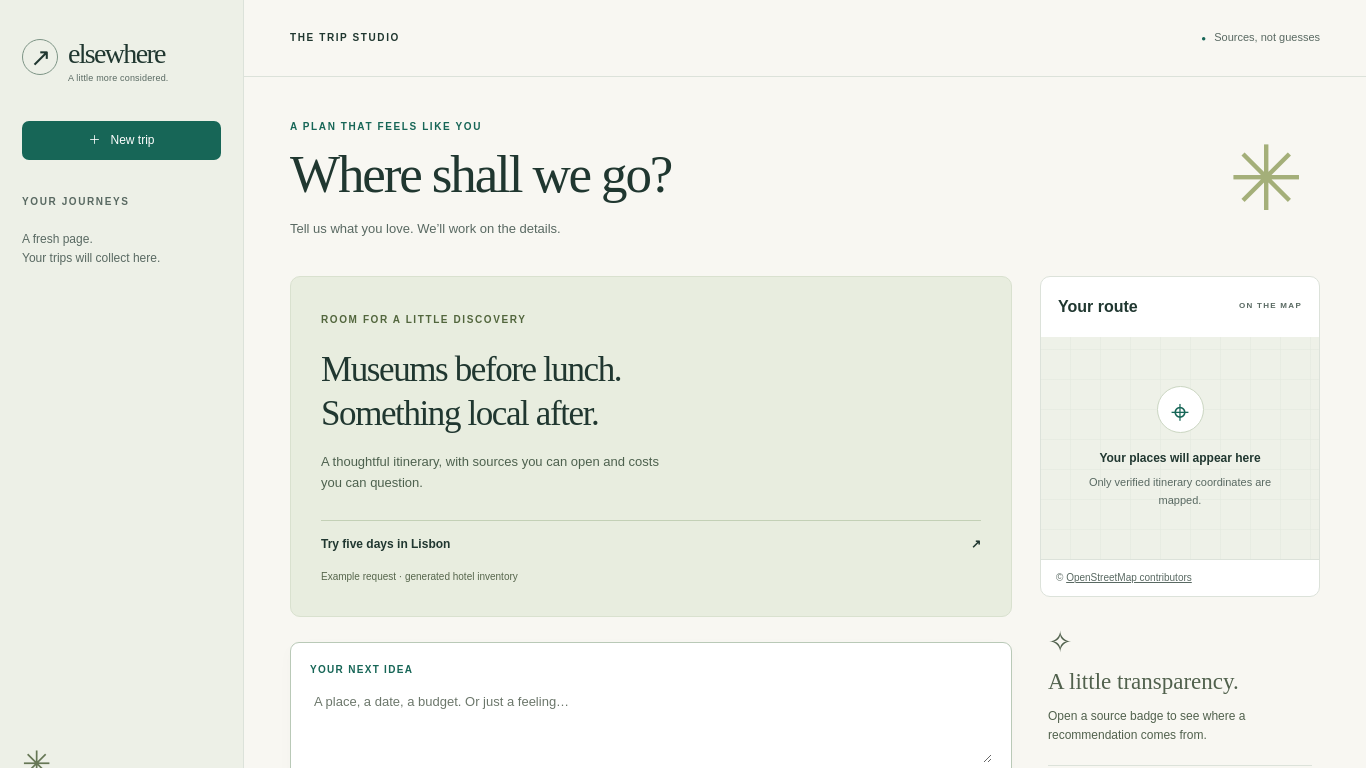
Test case: shows server errors, retries the message and restores persisted trip history
The width and height of the screenshot is (1366, 768).
Later steps or results of the test are not shown.
Type "Plan a synthetic trip" into the text box labelled "Your next idea".
click(651, 726); type("Plan a synthetic trip")  # box [310,688,992,763]
(page scrolled)
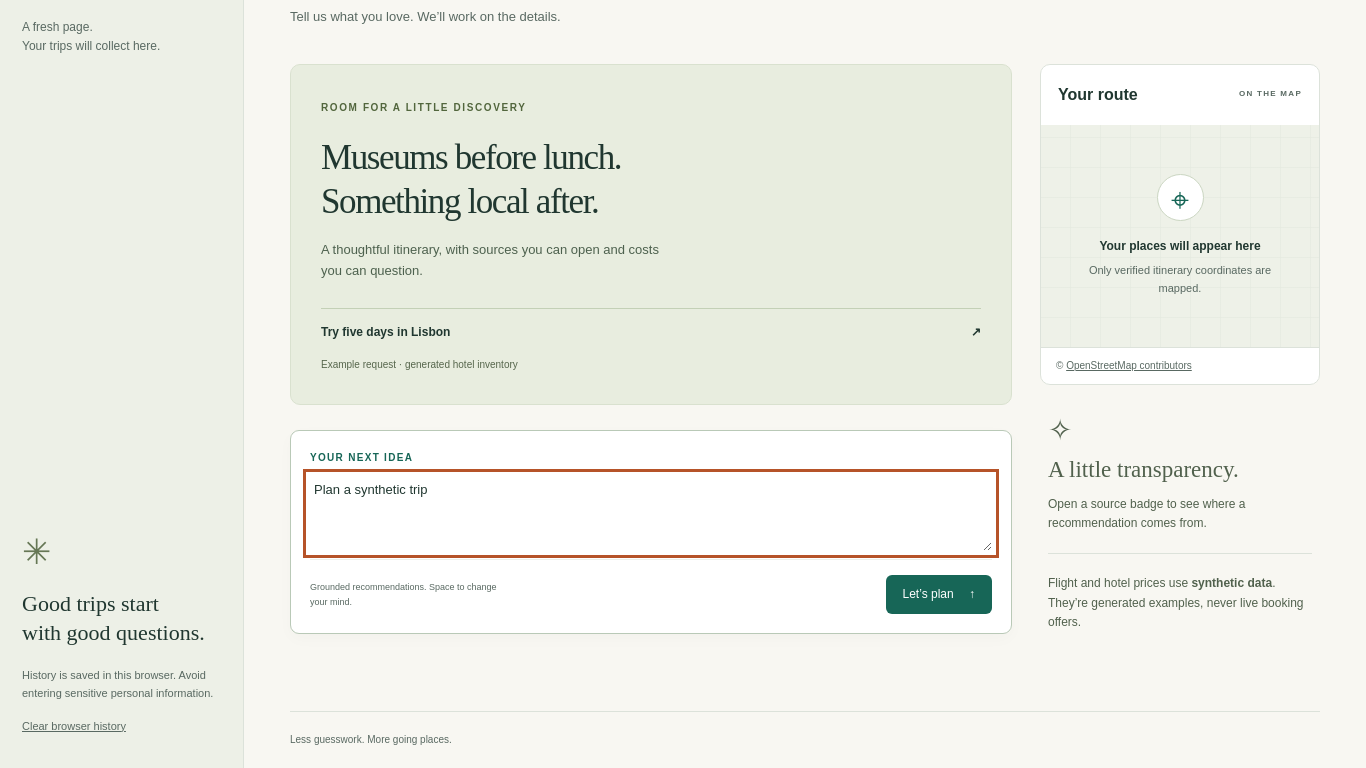
Click the button "Let’s plan ↑".
click(939, 595)  # box [886,575,992,614]
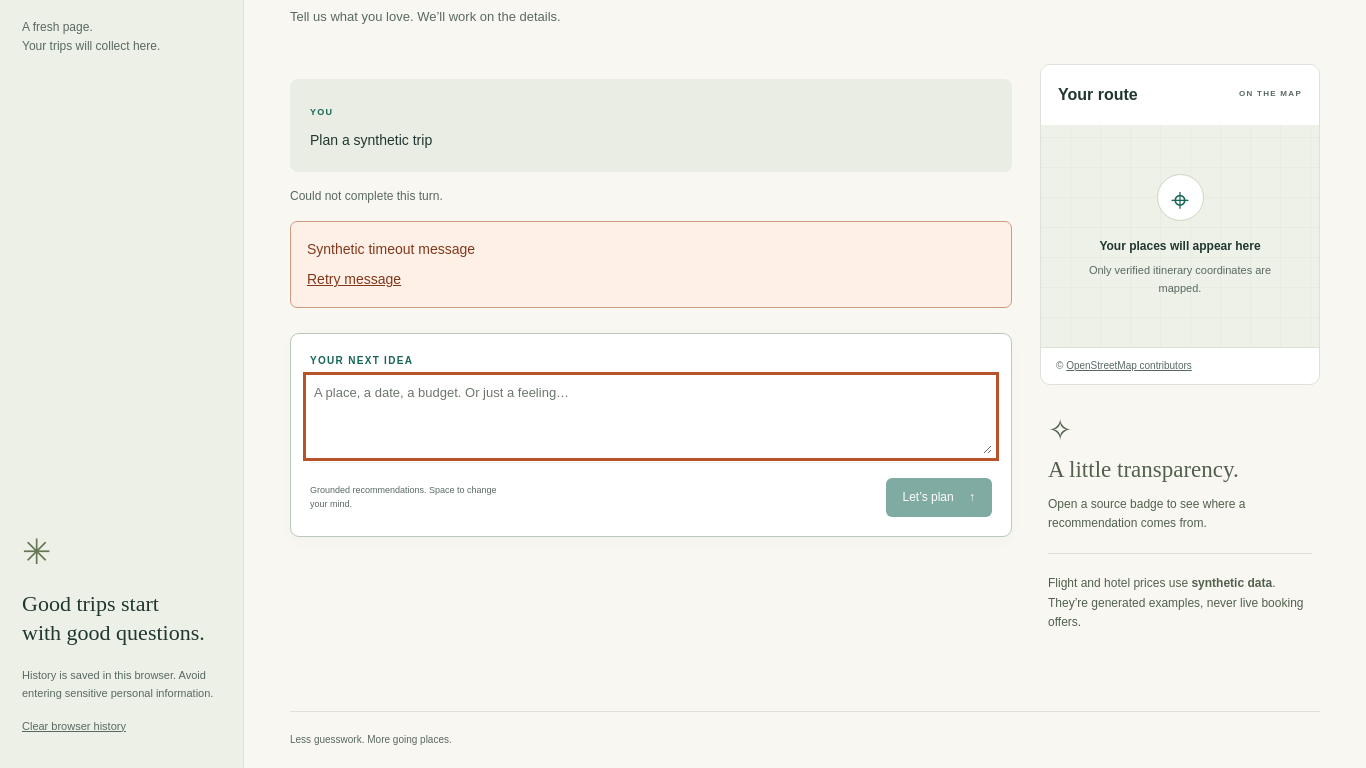
Now the message "Synthetic timeout message Retry message" is shown, box [290,221,1012,308]
Click the button "Retry message".
click(354, 280)  # box [307,268,401,291]
(page scrolled)
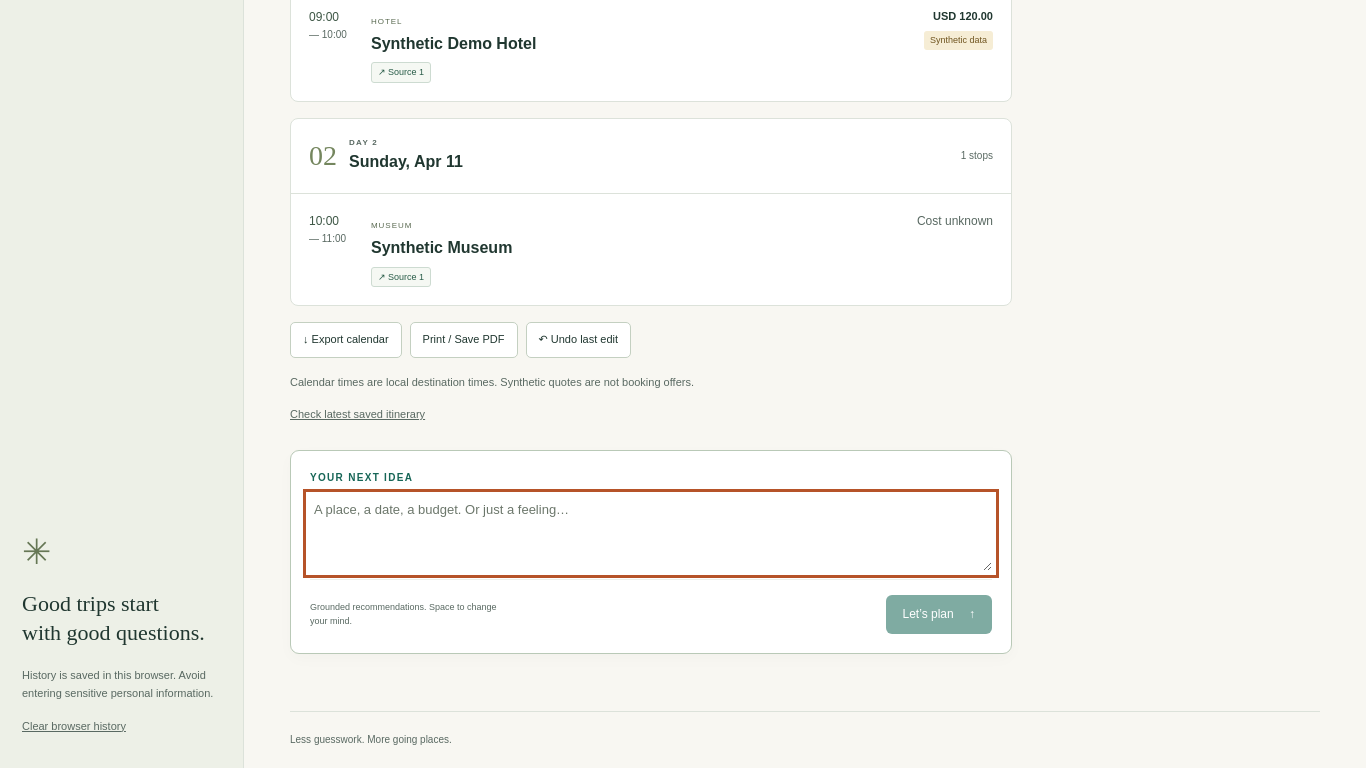
Now the message "Synthetic timeout message Retry message" is gone
Now the heading "Synthetic Demo Hotel" is shown, box [371,35,536,52]
